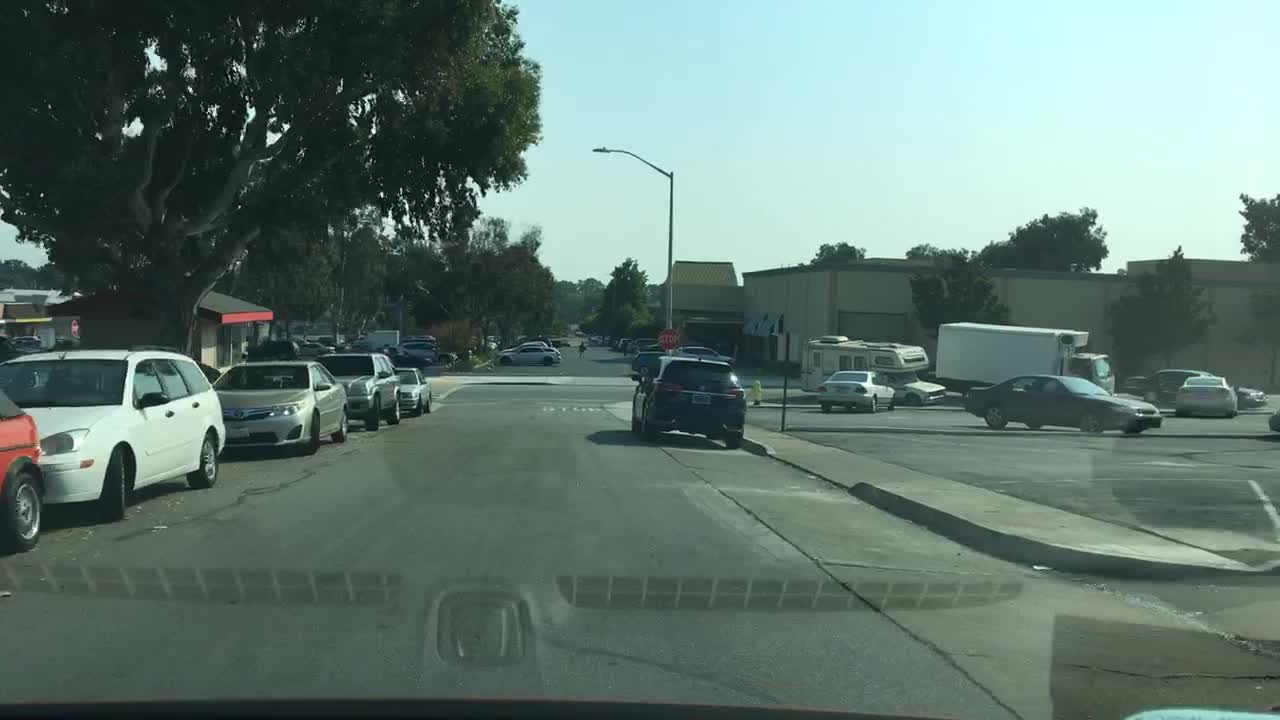car: (0, 349, 229, 522), (210, 361, 348, 454), (963, 369, 1164, 431), (628, 355, 751, 449), (315, 352, 403, 436), (0, 388, 45, 550), (1150, 368, 1267, 411), (816, 367, 896, 408), (1173, 372, 1238, 421), (391, 362, 432, 415), (394, 341, 461, 368), (496, 342, 562, 367), (376, 344, 434, 369), (670, 346, 731, 365), (250, 340, 300, 360), (628, 351, 661, 379), (11, 332, 42, 356), (192, 362, 221, 387), (297, 341, 336, 357), (1, 333, 22, 361), (1122, 373, 1148, 395), (628, 336, 662, 351), (406, 333, 436, 344), (1265, 408, 1278, 430), (618, 336, 632, 352), (520, 338, 554, 344), (590, 332, 604, 344)
person: (577, 339, 588, 361)
truck: (934, 319, 1117, 406), (800, 335, 948, 404)
